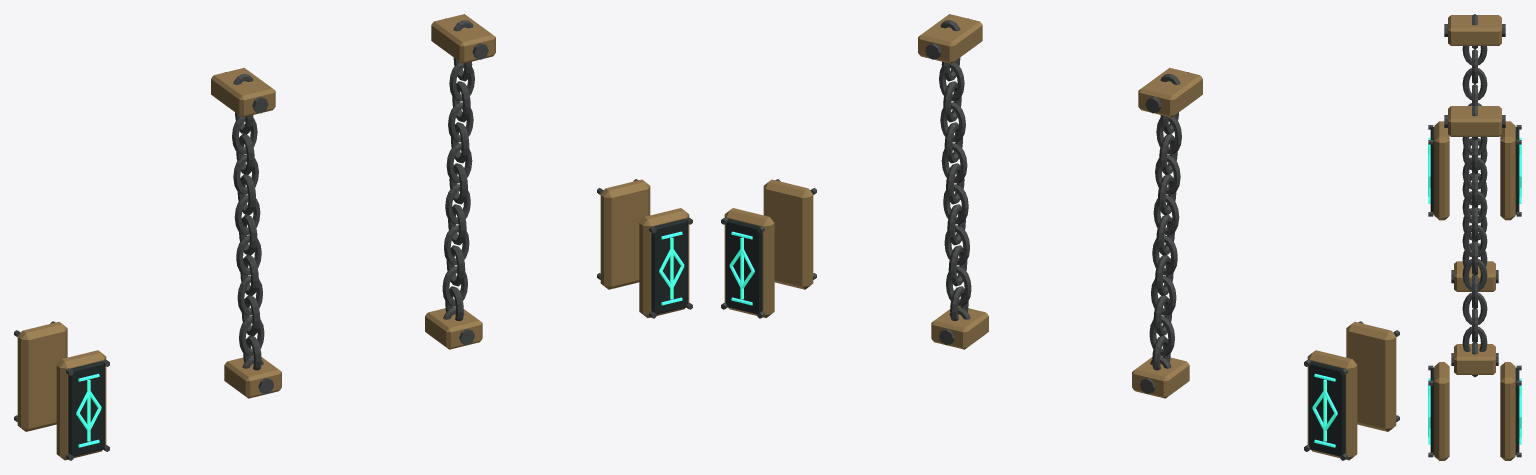
Rendered from machine_hardware.glb.
The picture shows the model from 3 angles, left to right: view 1: azimuth 30°, elevation 25°; view 2: azimuth 150°, elevation 25°; view 3: azimuth 270°, elevation 25°; orthographic projection. The views are drawn at different scales.
Parts seen in each view (by area): view 1: Worn brass fittings, Blackened chain iron, Recessed iron enamel, Tether rune inlay; view 2: Worn brass fittings, Blackened chain iron, Recessed iron enamel, Tether rune inlay; view 3: Worn brass fittings, Blackened chain iron, Recessed iron enamel, Tether rune inlay.
Boxes of the visible parts, box(x1,y1,x2,y2) form: Worn brass fittings: box(17, 14, 689, 460); Blackened chain iron: box(14, 18, 692, 460); Recessed iron enamel: box(68, 219, 687, 456); Tether rune inlay: box(76, 231, 684, 447); Worn brass fittings: box(724, 14, 1396, 460); Blackened chain iron: box(721, 18, 1399, 460); Recessed iron enamel: box(726, 219, 1345, 456); Tether rune inlay: box(729, 231, 1337, 447); Worn brass fittings: box(1434, 15, 1515, 460); Blackened chain iron: box(1428, 14, 1521, 457); Recessed iron enamel: box(1430, 127, 1519, 455); Tether rune inlay: box(1428, 137, 1521, 444).
Bounding box in the file's own units: 9.72 × 4.79 × 1.48.
